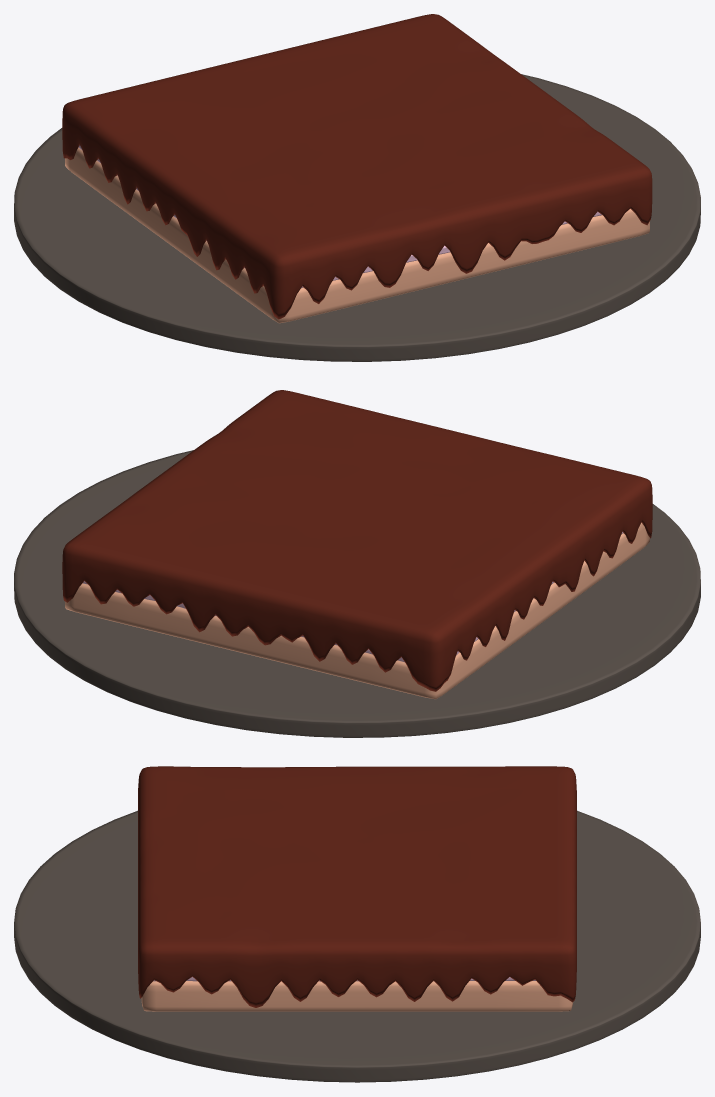
Rendered from 1LayerSquareCake.fbx.
3 views of the same model, one above another, from view 1: azimuth 30°, elevation 25°; view 2: azimuth 150°, elevation 25°; view 3: azimuth 270°, elevation 25° (orthographic).
Parts seen in each view (by area): view 1: Cube.012, Cylinder.001, Cube.009; view 2: Cube.012, Cylinder.001, Cube.009; view 3: Cube.012, Cylinder.001, Cube.009.
Boxes of the visible parts, x1,y1,x2,y2 form: Cube.012: [62, 14, 652, 319]; Cylinder.001: [14, 74, 700, 361]; Cube.009: [65, 147, 649, 323]; Cube.012: [62, 390, 652, 691]; Cylinder.001: [14, 450, 700, 737]; Cube.009: [65, 522, 649, 699]; Cube.012: [138, 766, 576, 1007]; Cylinder.001: [14, 810, 700, 1082]; Cube.009: [141, 981, 573, 1011].
Bounding box in the file's own units: 39.74 × 5.32 × 39.74.
